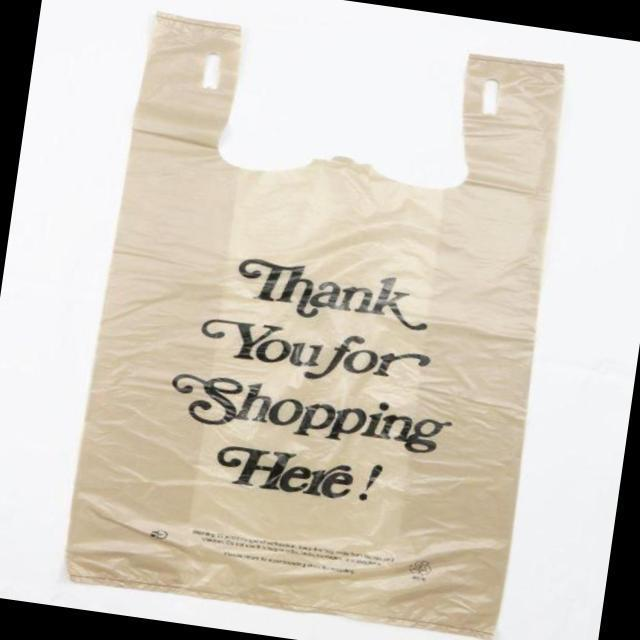Plastic_Bag: (56, 5, 582, 640)
